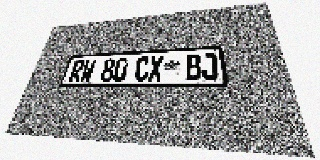0: (112, 58, 129, 82)
8: (100, 58, 116, 82)
B: (186, 54, 202, 81)
C: (134, 57, 150, 81)
J: (201, 53, 219, 80)
R: (68, 60, 85, 82)
W: (79, 59, 96, 82)
X: (148, 56, 163, 81)
